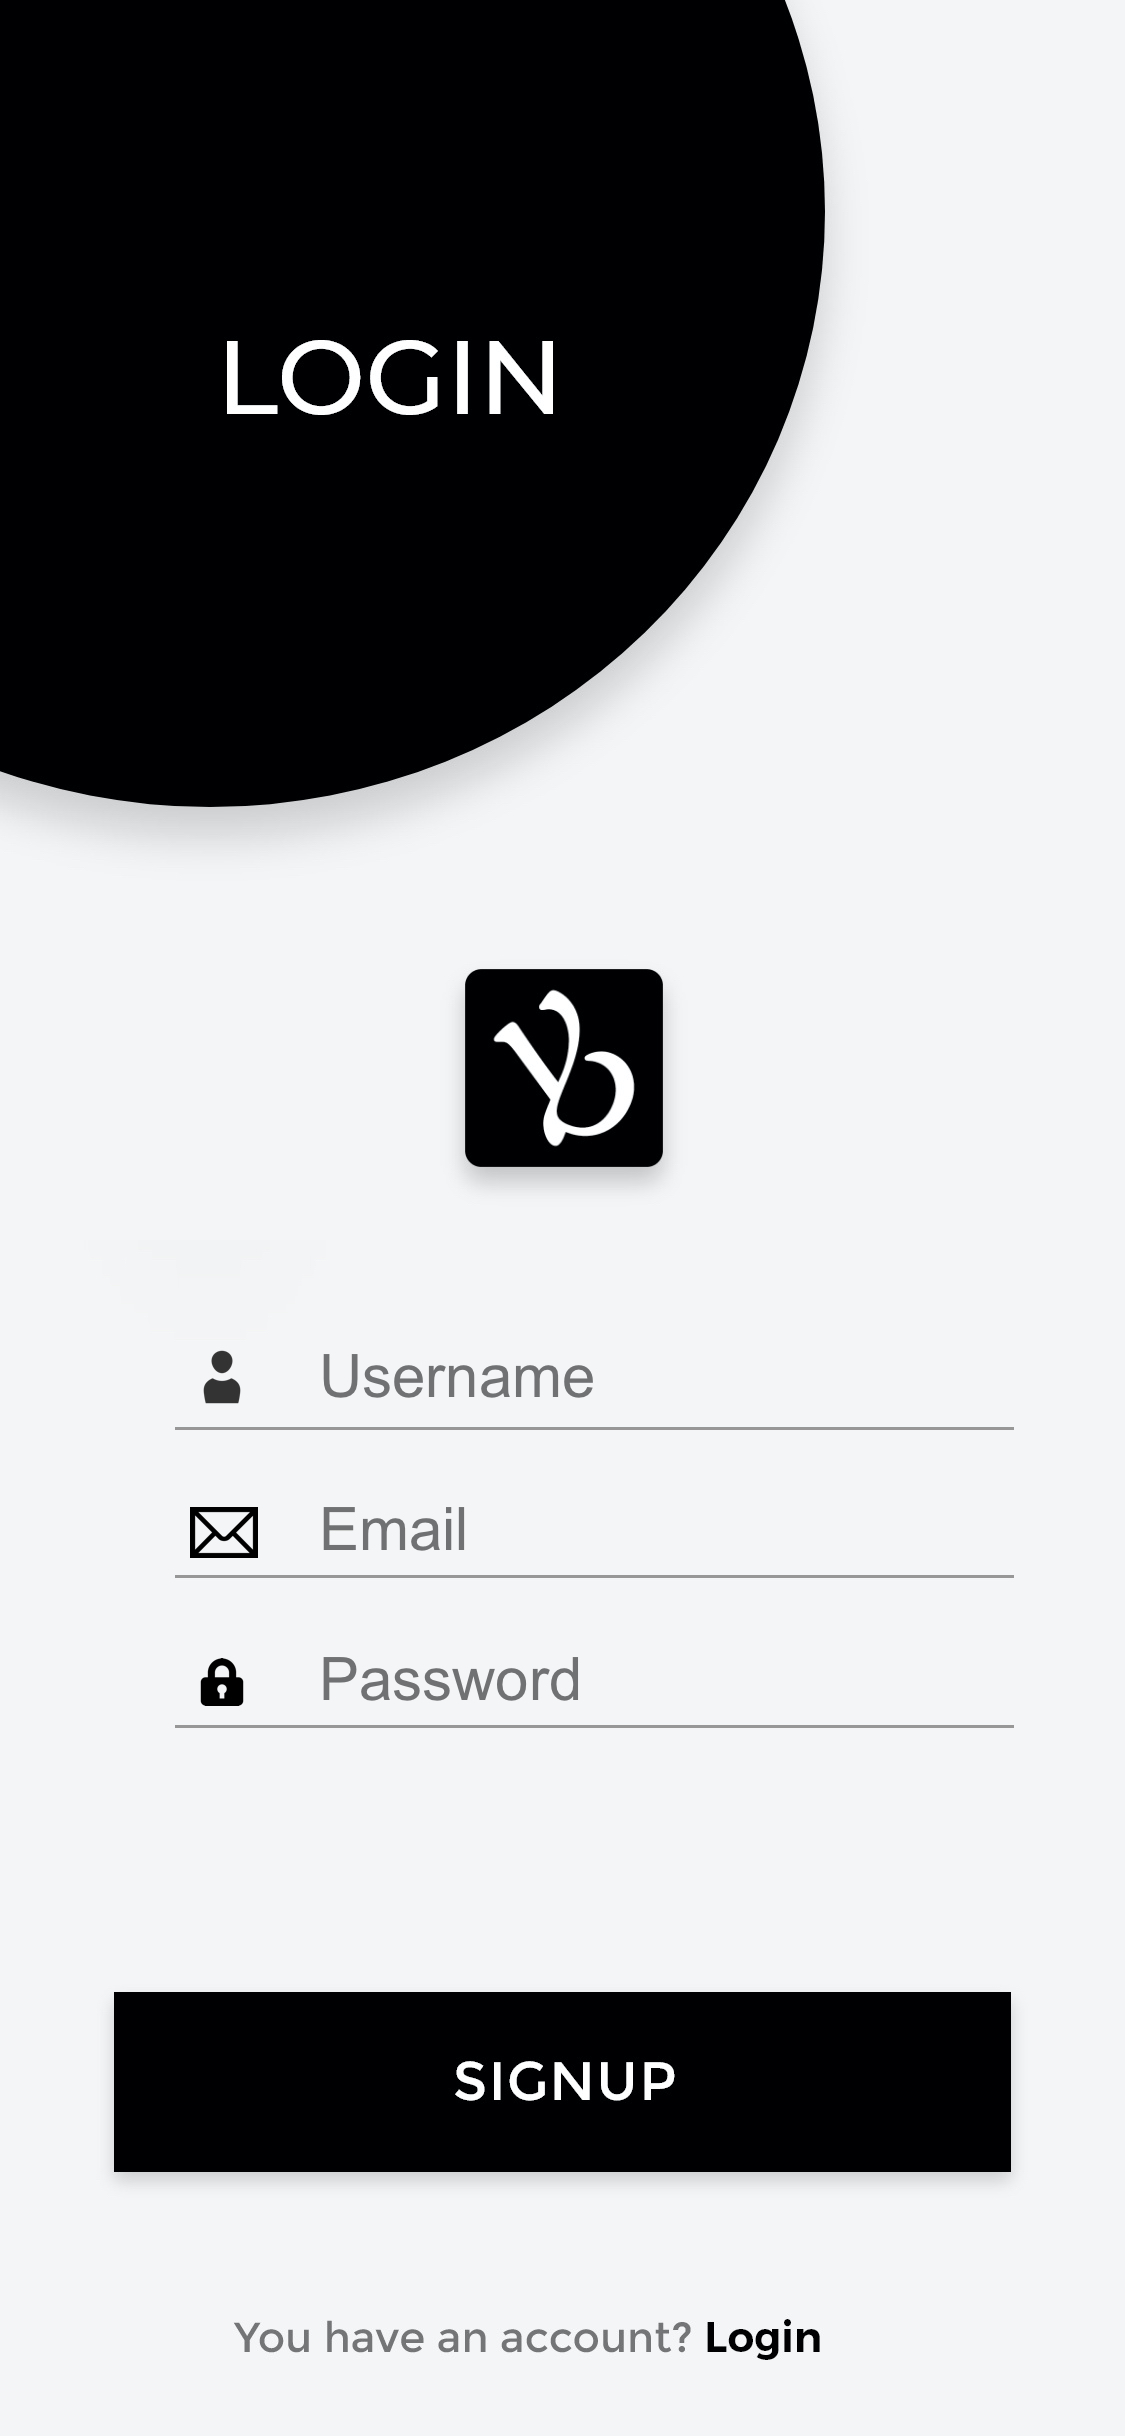EditText: (176, 1348, 1015, 1431), (176, 1656, 1015, 1729), (176, 1505, 1015, 1578)
Icon: (190, 1507, 259, 1560), (200, 1658, 246, 1707), (204, 1352, 242, 1406)
Image: (465, 969, 664, 1168)
Text: (235, 2318, 820, 2361), (227, 340, 555, 416), (325, 1353, 594, 1400), (323, 1656, 580, 1703), (323, 1505, 465, 1552)
TextButton: (113, 1992, 1012, 2173)
